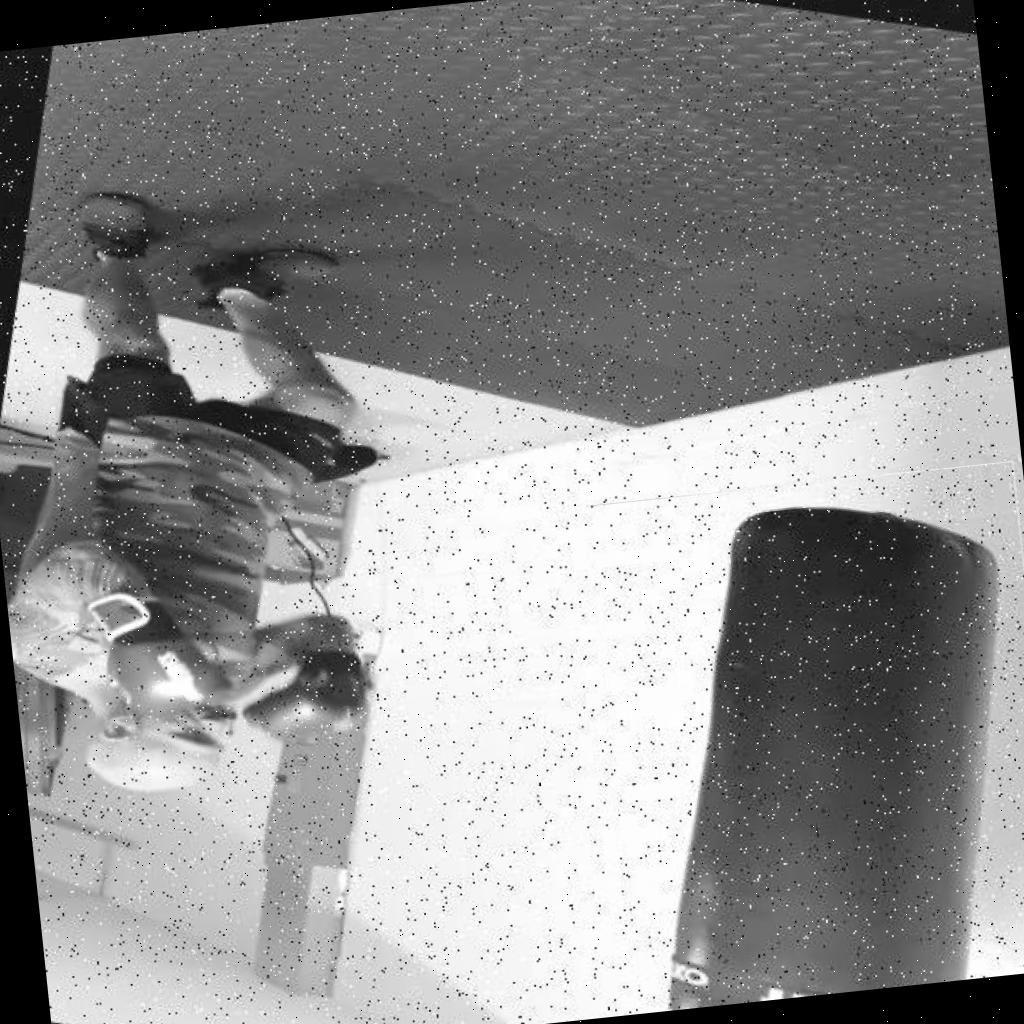bag: (585, 460, 1024, 1013)
no punch: (0, 490, 423, 867)
